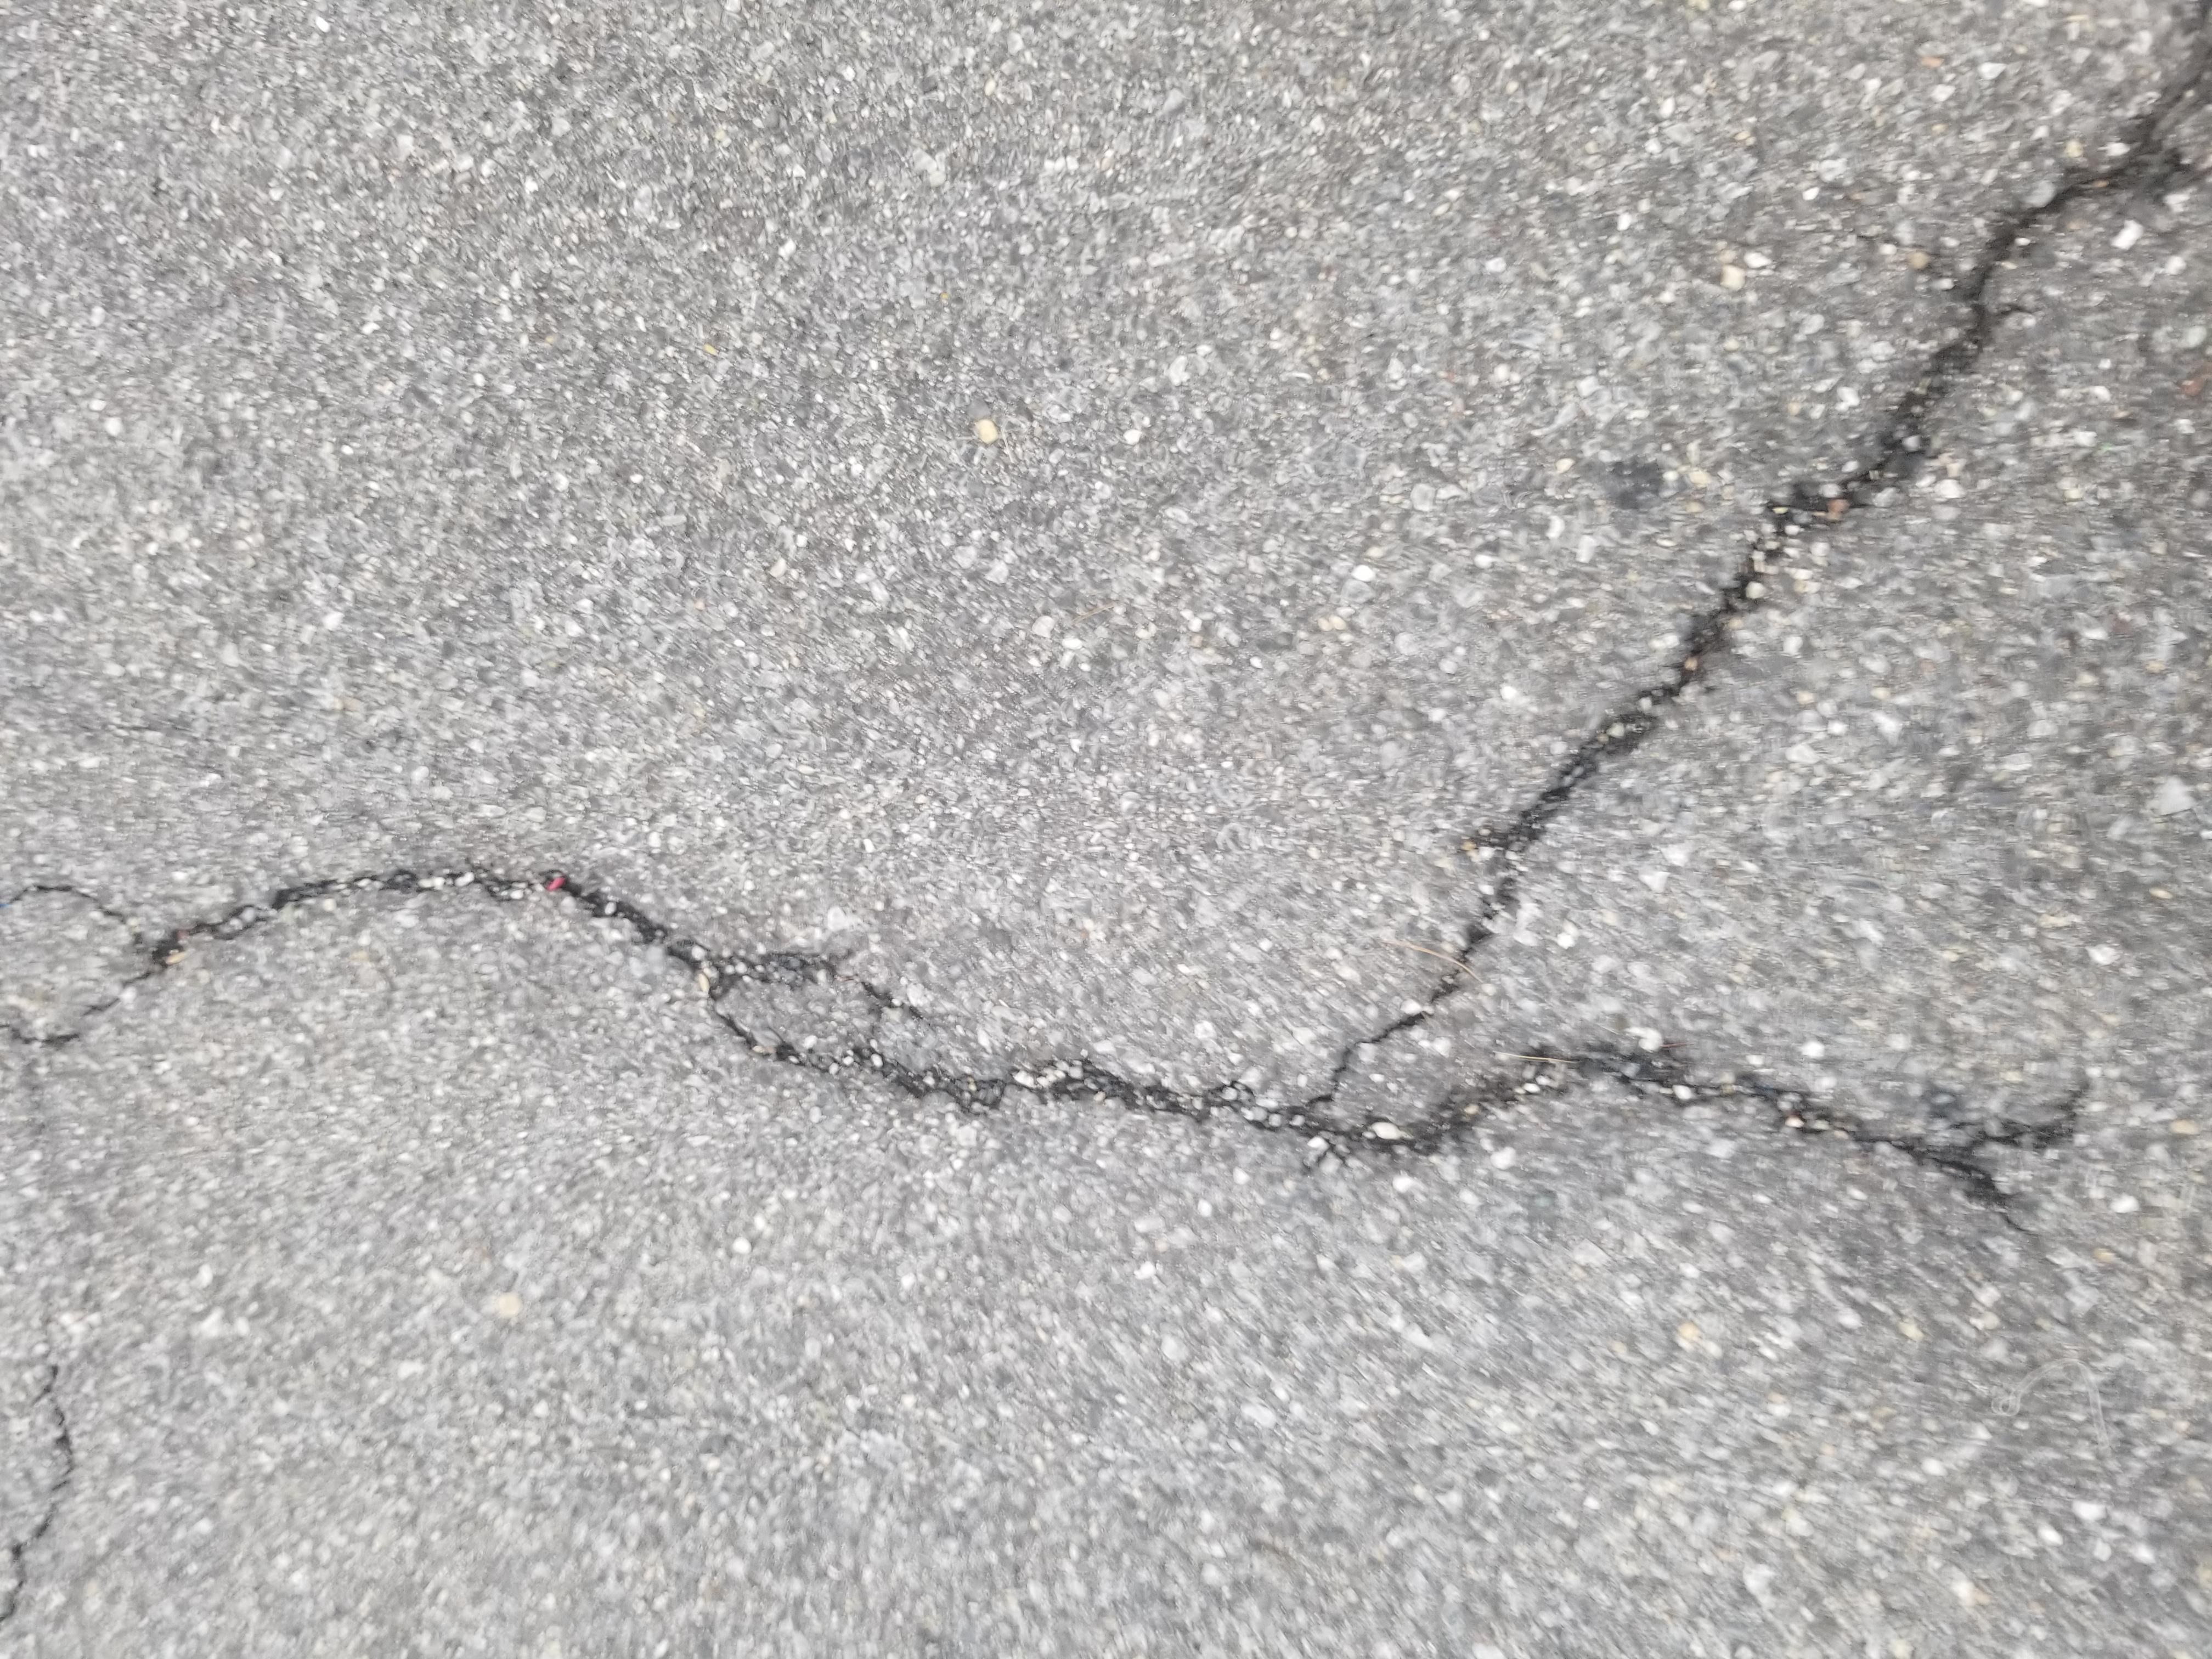crack: (928, 1056, 2181, 1638), (636, 495, 968, 1138), (763, 17, 1151, 542), (550, 1121, 846, 1572)
